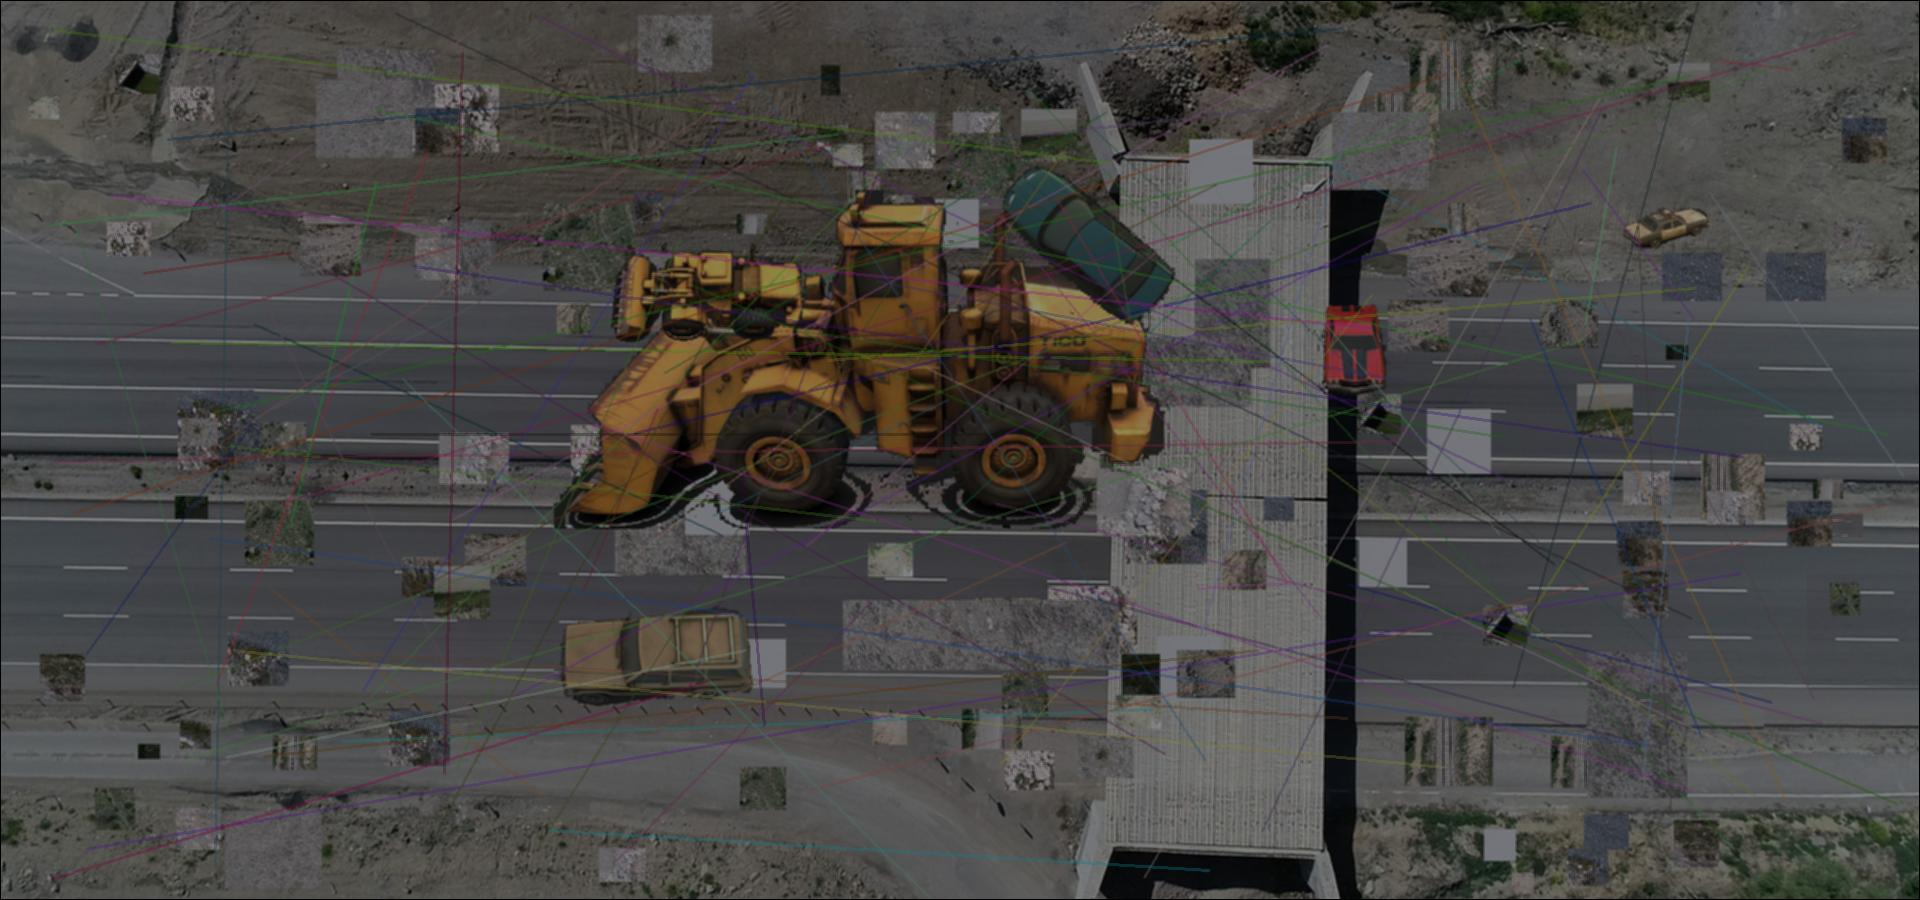arac: (553, 190, 1178, 529), (997, 160, 1176, 326), (606, 242, 812, 355), (560, 602, 758, 711), (1318, 302, 1391, 399), (1622, 204, 1713, 249)
